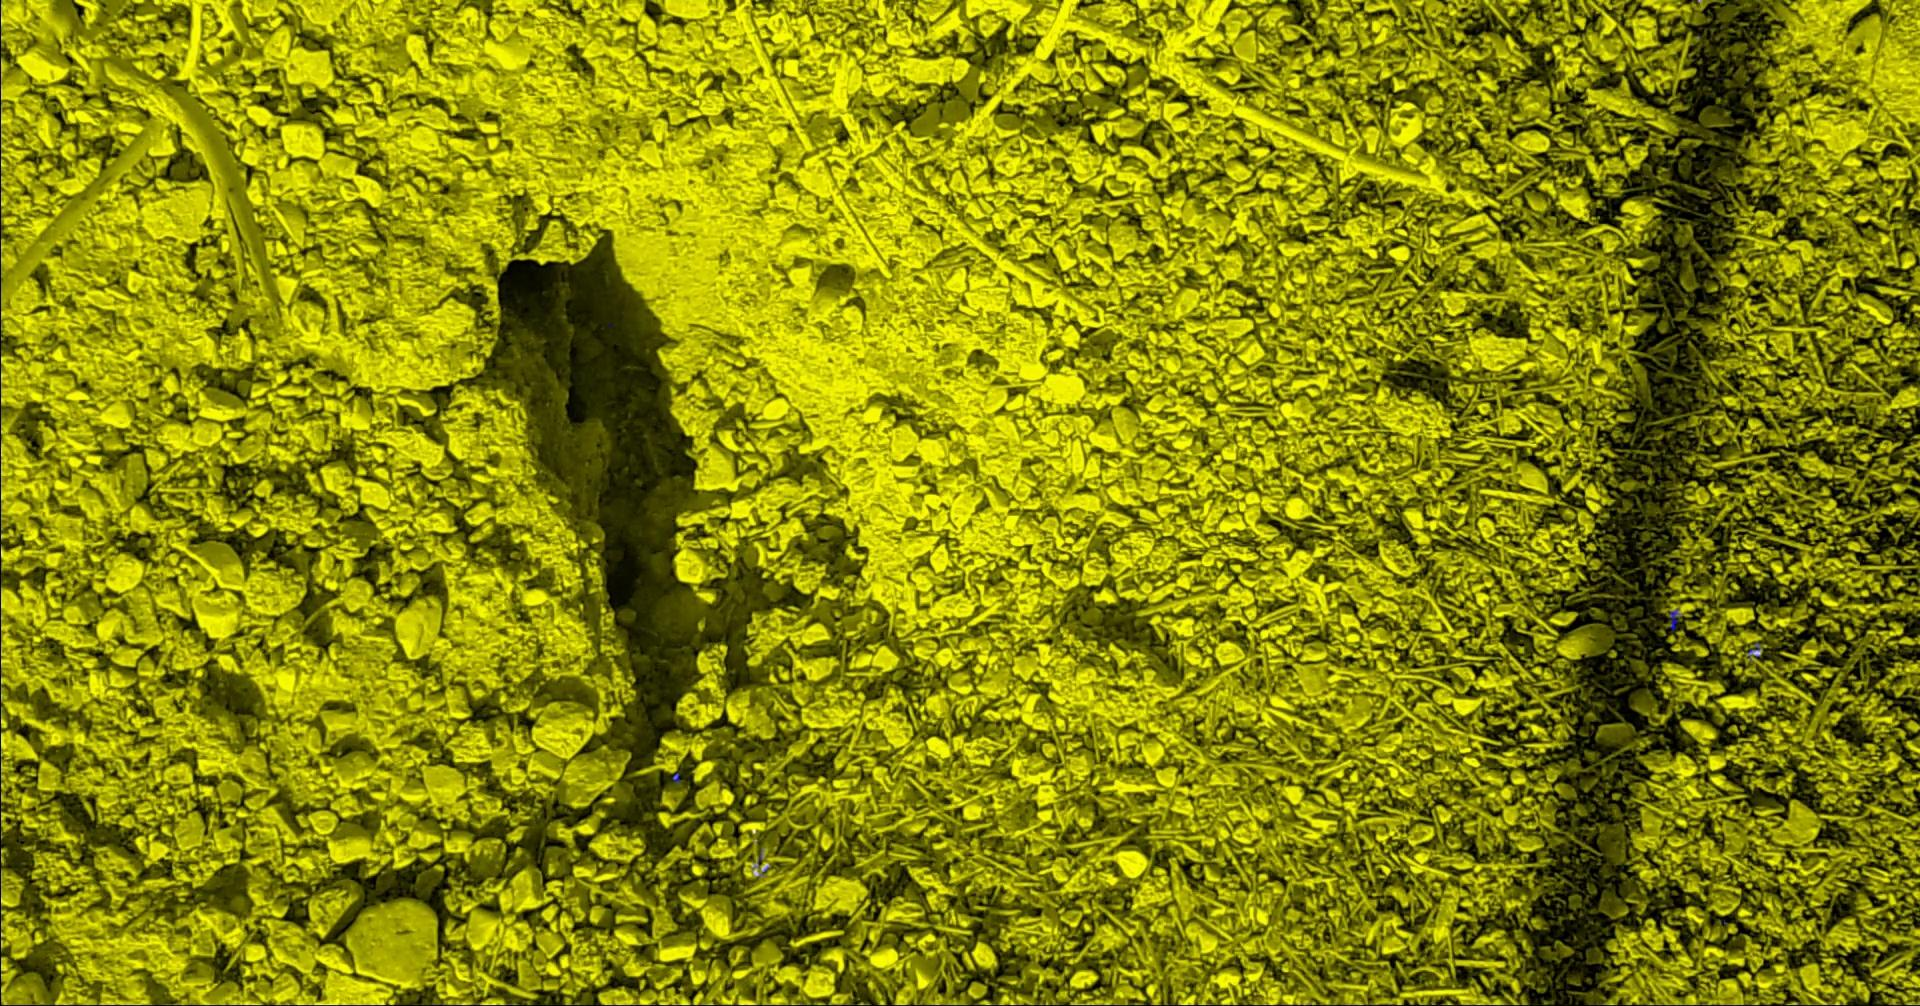ant: (1669, 608, 1681, 630), (1746, 641, 1760, 661)
